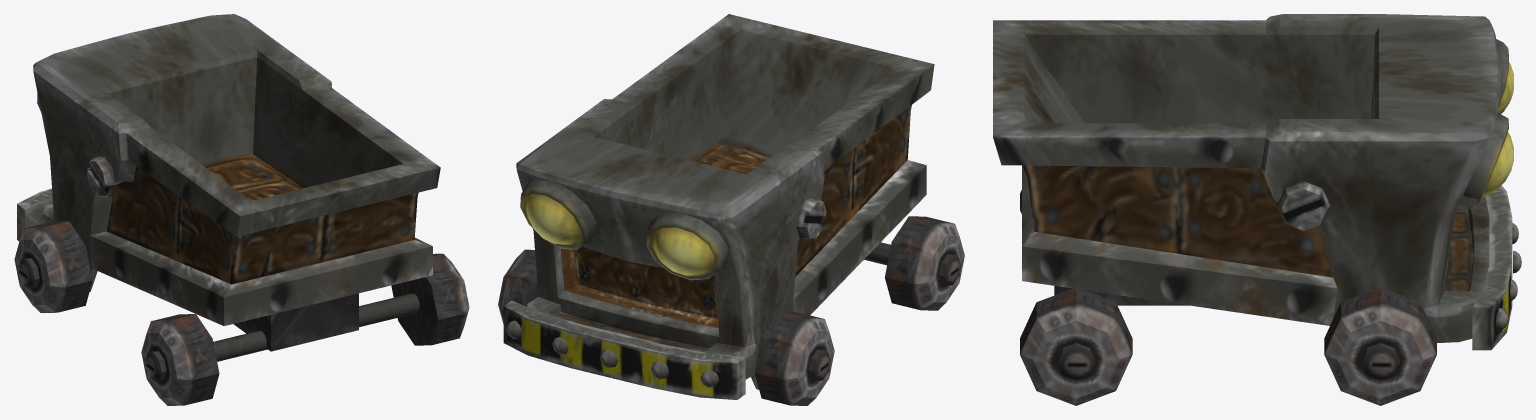
File: Minecar.fbx
The picture shows the model from 3 angles, left to right: view 1: azimuth 30°, elevation 25°; view 2: azimuth 150°, elevation 25°; view 3: azimuth 270°, elevation 25°; orthographic projection. The views are drawn at different scales.
Parts seen in each view (by area): view 1: polySurface16, polySurface12, polySurface14, polySurface10; view 2: polySurface16, polySurface14, polySurface12, polySurface8; view 3: polySurface16, polySurface8, polySurface10.
Part boxes in pixels (x1,y1,x2,y2): polySurface16: (17, 14, 440, 381); polySurface12: (14, 221, 92, 312); polySurface14: (141, 314, 219, 405); polySurface10: (391, 253, 469, 345); polySurface16: (503, 14, 960, 399); polySurface14: (885, 216, 964, 310); polySurface12: (754, 311, 834, 405); polySurface8: (498, 249, 537, 324); polySurface16: (993, 14, 1521, 380); polySurface8: (1324, 287, 1436, 405); polySurface10: (1020, 287, 1132, 405).
Bounding box in the file's own units: 4.96 × 3.22 × 6.12.
2 materials, 2 textured.
